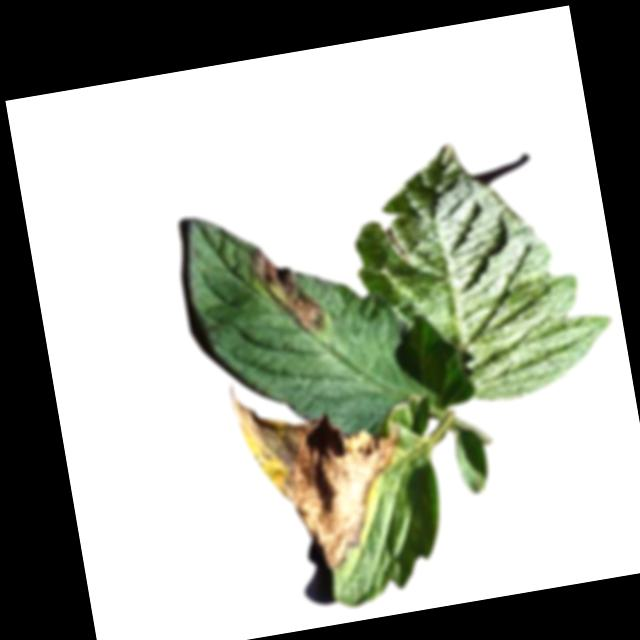Late_blight: (224, 357, 421, 584), (246, 240, 328, 343)
healthy: (334, 123, 620, 421)
